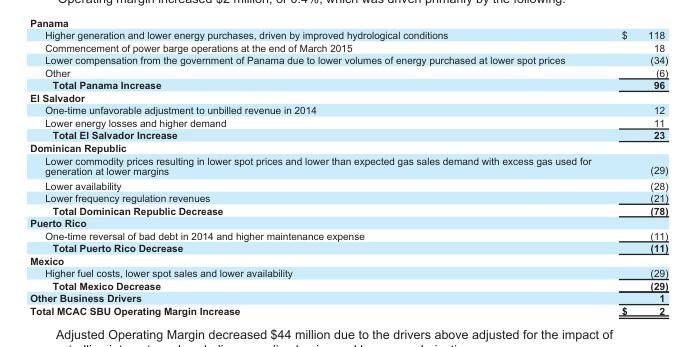table: (29, 29, 667, 316)
table column: (29, 29, 605, 316), (605, 29, 667, 316)
table projected row header: (29, 91, 667, 103), (29, 141, 667, 153), (29, 216, 667, 228), (29, 254, 667, 266)
table row: (29, 153, 667, 177), (29, 177, 667, 191), (29, 40, 667, 53), (29, 65, 667, 78), (29, 78, 667, 91), (29, 103, 667, 116), (29, 128, 667, 141), (29, 203, 667, 216), (29, 228, 667, 241), (29, 241, 667, 254), (29, 266, 667, 279), (29, 291, 667, 304), (29, 53, 667, 65), (29, 91, 667, 103), (29, 116, 667, 128), (29, 141, 667, 153), (29, 191, 667, 203), (29, 216, 667, 228), (29, 254, 667, 266), (29, 279, 667, 291), (29, 304, 667, 316), (29, 29, 667, 40)
